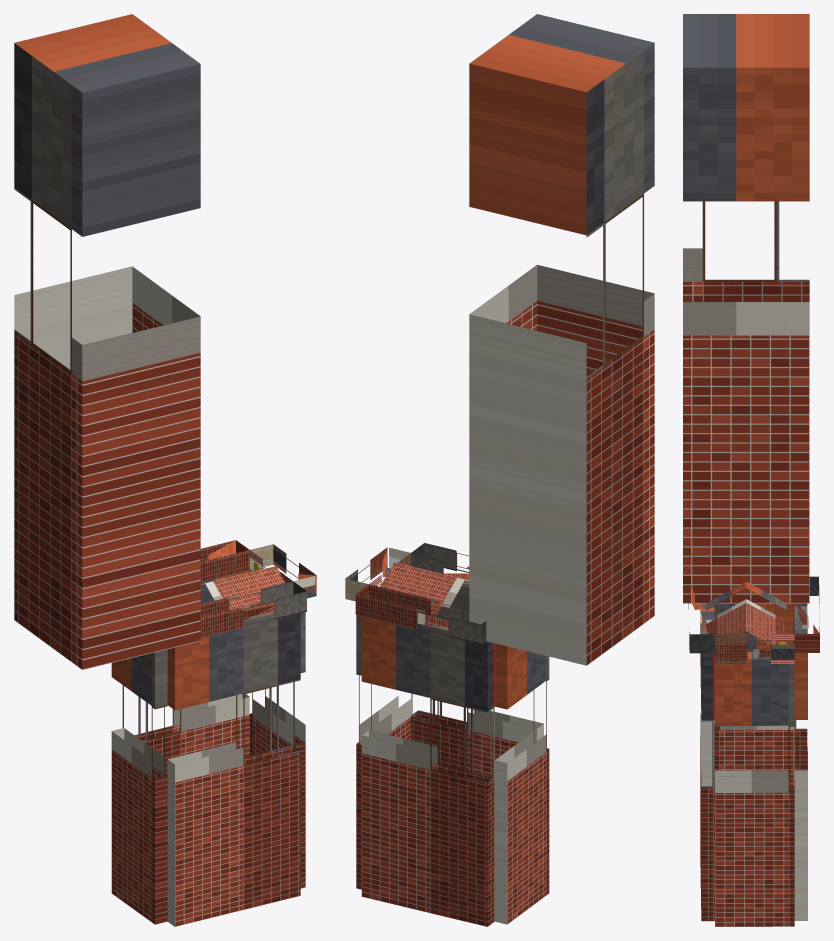
The picture shows the model from 3 angles, left to right: view 1: azimuth 30°, elevation 25°; view 2: azimuth 150°, elevation 25°; view 3: azimuth 270°, elevation 25°; orthographic projection. The views are drawn at different scales.
Parts seen in each view (by area): view 1: 1106973758__chimney_0_xb, 1106973758__wall_0_xb, 1106973758__wall_1_xb, 1106973758__wall_2_xb, 1106973758__wall_3_xb, 1106973758__cornice_0, 1106973758_roof_-1_xb, 1106973758__cornice_2, 1106973758__cornice_3; view 2: 1106973758__chimney_0_xb, 1106973758__wall_2_xb, 1106973758__wall_1_xb, 1106973758__wall_0_xb, 1106973758__cornice_2, 1106973758__wall_3_xb, 1106973758_roof_1_xb, 1106973758__cornice_3, 1106973758__cornice_0; view 3: 1106973758__chimney_0_xb, 1106973758__wall_3_xb, 1106973758__wall_1_xb, 1106973758__wall_0_xb, 1106973758__wall_2_xb, 1106973758__cornice_3, 1106973758_roof_1_xb, 1106973758_roof_-1_xb, 1106973758__cornice_2, 1106973758__cornice_0.
Part boxes in pixels (box(x1,y1,x2,y2)): 1106973758__chimney_0_xb: box(14, 14, 200, 669); 1106973758__wall_0_xb: box(167, 611, 300, 926); 1106973758__wall_1_xb: box(111, 649, 167, 924); 1106973758__wall_2_xb: box(122, 570, 249, 775); 1106973758__wall_3_xb: box(249, 567, 305, 888); 1106973758__cornice_0: box(200, 581, 306, 637); 1106973758_roof_-1_xb: box(205, 566, 285, 615); 1106973758__cornice_2: box(200, 540, 249, 582); 1106973758__cornice_3: box(249, 544, 316, 598); 1106973758__chimney_0_xb: box(469, 14, 654, 665); 1106973758__wall_2_xb: box(361, 616, 494, 926); 1106973758__wall_1_xb: box(494, 643, 549, 924); 1106973758__wall_0_xb: box(411, 581, 543, 776); 1106973758__cornice_2: box(355, 584, 486, 644); 1106973758__wall_3_xb: box(356, 582, 410, 889); 1106973758_roof_1_xb: box(381, 562, 464, 616); 1106973758__cornice_3: box(345, 547, 410, 601); 1106973758__cornice_0: box(411, 543, 469, 586); 1106973758__chimney_0_xb: box(683, 14, 809, 603); 1106973758__wall_3_xb: box(715, 653, 794, 926); 1106973758__wall_1_xb: box(714, 603, 793, 785); 1106973758__wall_0_xb: box(700, 603, 714, 921); 1106973758__wall_2_xb: box(793, 603, 807, 920); 1106973758__cornice_3: box(715, 634, 794, 663); 1106973758_roof_1_xb: box(746, 582, 786, 644); 1106973758_roof_-1_xb: box(706, 582, 746, 633); 1106973758__cornice_2: box(793, 576, 819, 652); 1106973758__cornice_0: box(688, 587, 714, 653).
Size of the model in its own units: 0.3193 by 1.05 by 0.1621.
1 material, 1 textured.
